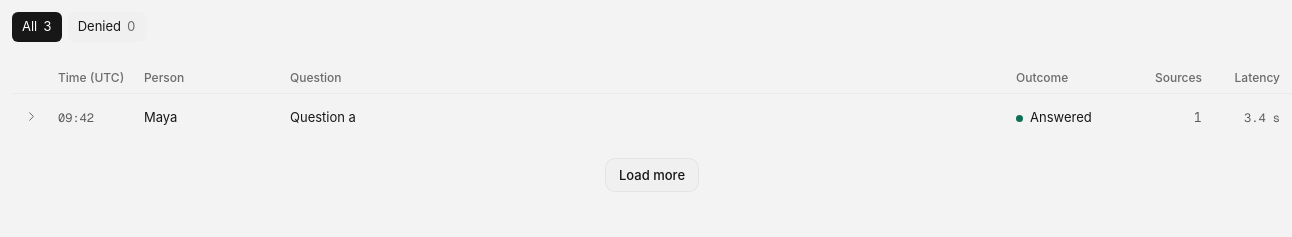
Test: ActivityView › keeps loaded rows when Load more fails
Click the button "Load more" at [652, 175], box [605,158,699,192]
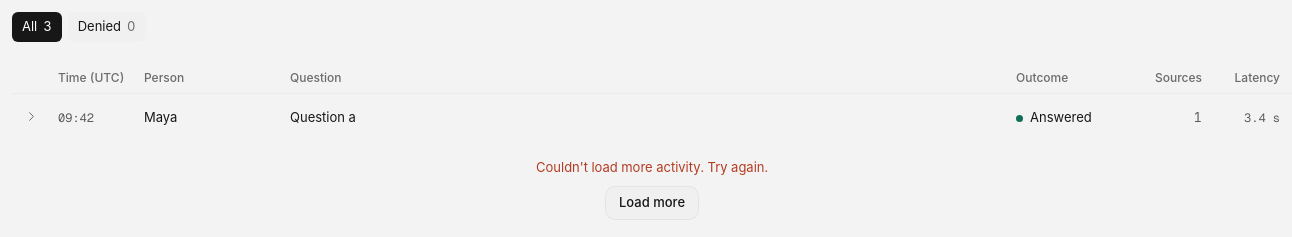
Check: the text "Question a" is shown, box [290,109,356,125]
Check: the message shows "Couldn't load more activity", box [536,159,768,175]
